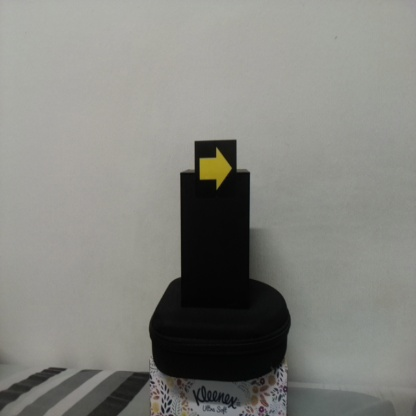id_3: (195, 141, 237, 198)
